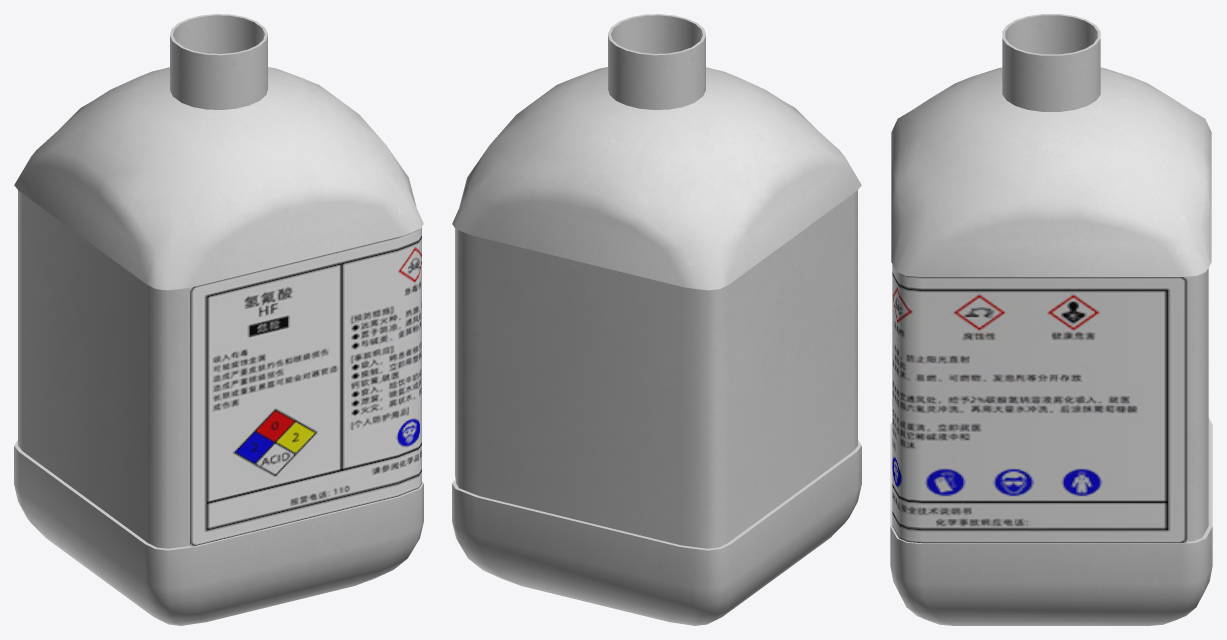
File: SM_氢氟酸.fbx
3 renders of one model, left to right at view 1: azimuth 30°, elevation 25°; view 2: azimuth 150°, elevation 25°; view 3: azimuth 270°, elevation 25°, orthographic. The views are drawn at different scales.
Visible parts, largest first — view 1: SM_氢氟酸; view 2: SM_氢氟酸; view 3: SM_氢氟酸.
Boxes of the visible parts, x1=… form: SM_氢氟酸: x1=14, y1=14, x2=423, y2=625; SM_氢氟酸: x1=452, y1=14, x2=861, y2=625; SM_氢氟酸: x1=890, y1=14, x2=1212, y2=625.
Size of the model in its own units: 0.056 by 0.1036 by 0.0557.
